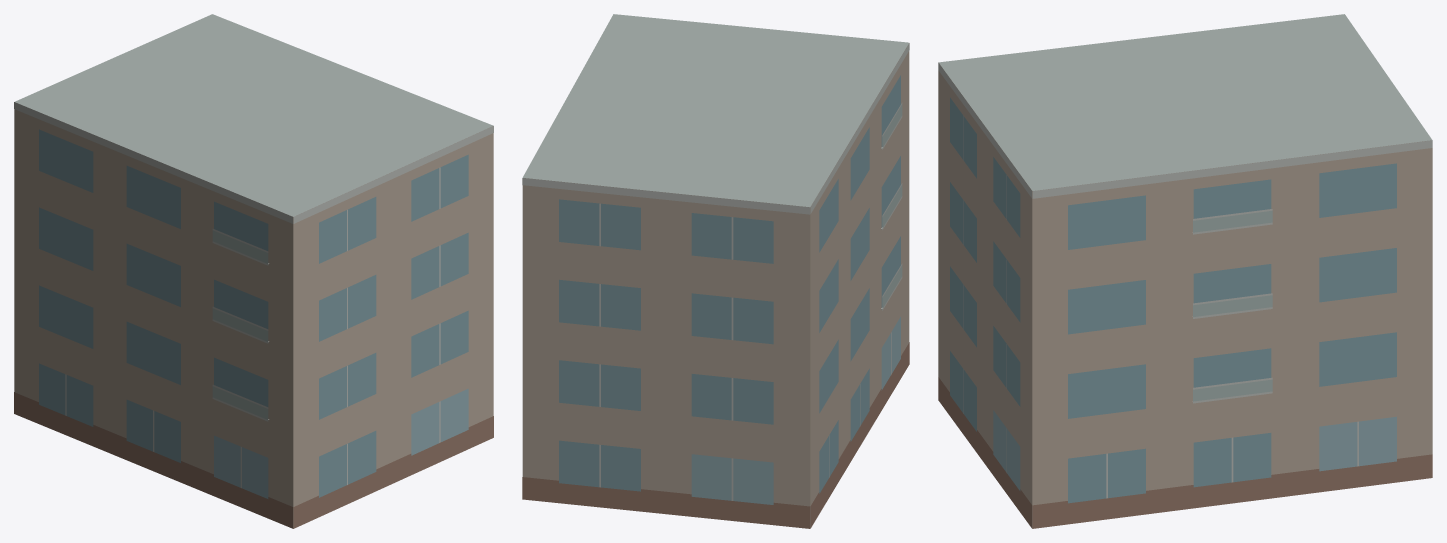
The model's file is survey-upis-32568659.glb.
3 renders of one model, left to right at view 1: azimuth 30°, elevation 25°; view 2: azimuth 150°, elevation 25°; view 3: azimuth 270°, elevation 25°, orthographic. The views are drawn at different scales.
Visible parts, largest first — view 1: survey-upis-32568659.tmp; view 2: survey-upis-32568659.tmp; view 3: survey-upis-32568659.tmp.
Part boxes in pixels (x1=…): survey-upis-32568659.tmp: x1=14, y1=14, x2=493, y2=528; survey-upis-32568659.tmp: x1=522, y1=14, x2=909, y2=528; survey-upis-32568659.tmp: x1=938, y1=14, x2=1432, y2=528.
Size of the model in its own units: 11.93 by 10.6 by 14.06.
